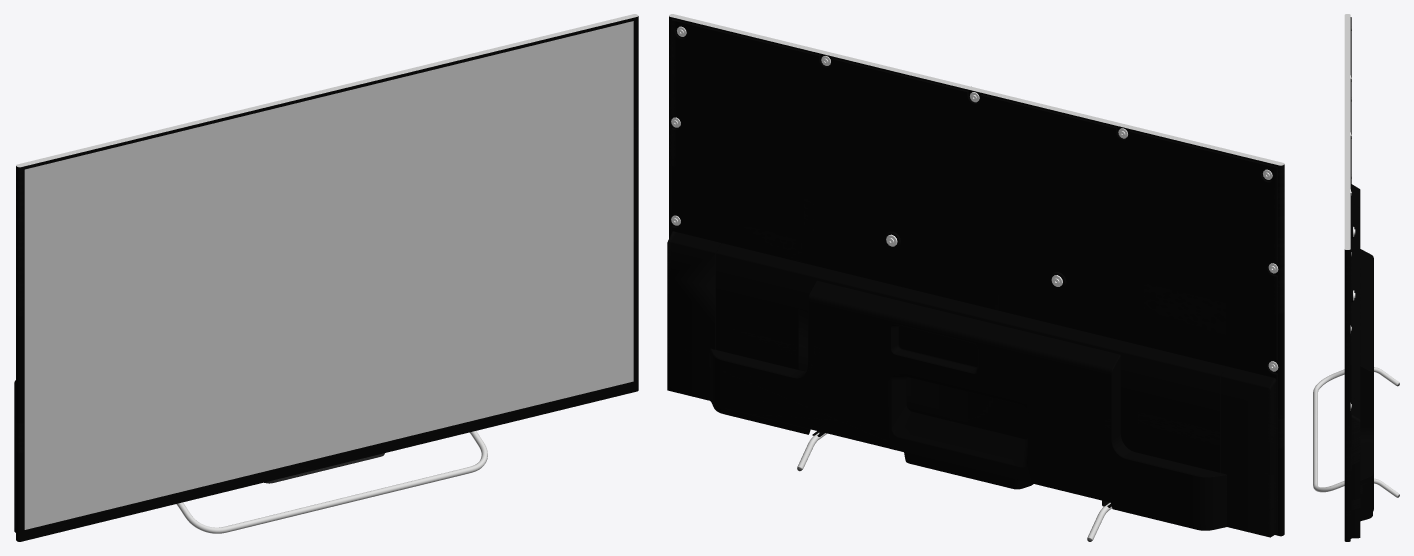
3 views of the same model, side by side, from view 1: azimuth 30°, elevation 25°; view 2: azimuth 150°, elevation 25°; view 3: azimuth 270°, elevation 25° (orthographic). The views are drawn at different scales.
Parts seen in each view (by area): view 1: screen, main body, upper metal, leg; view 2: main body, upper metal, bolts; view 3: main body, upper metal, leg.
Part boxes in pixels (left/top/right/bottom): screen: left=24, top=21, right=633, bottom=529; main body: left=14, top=16, right=638, bottom=541; upper metal: left=16, top=14, right=638, bottom=167; leg: left=176, top=431, right=487, bottom=533; main body: left=667, top=16, right=1284, bottom=537; upper metal: left=669, top=14, right=1284, bottom=165; bolts: left=671, top=26, right=1278, bottom=371; main body: left=1344, top=17, right=1373, bottom=541; upper metal: left=1344, top=14, right=1350, bottom=249; leg: left=1313, top=367, right=1398, bottom=497.
Bounding box in the file's own units: 1.1 × 0.6747 × 0.1713.
